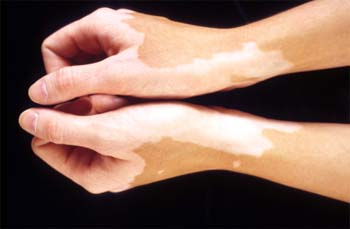vitiligo: (46, 20, 206, 171)
